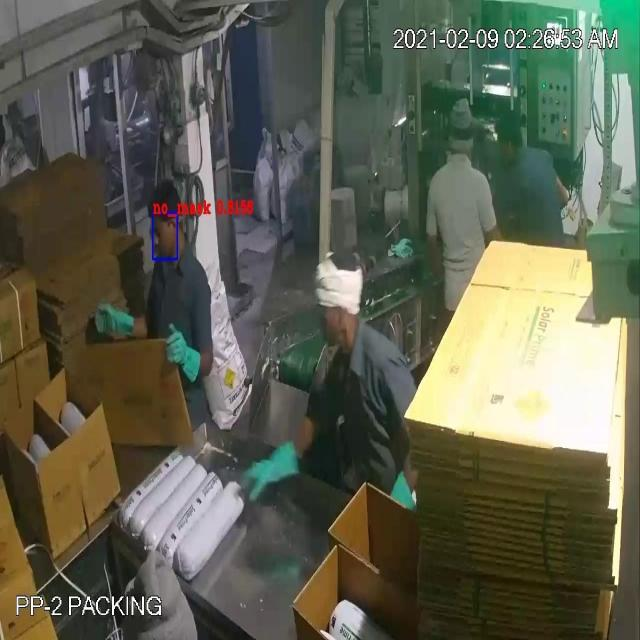Gloves: (38, 65, 271, 474)
